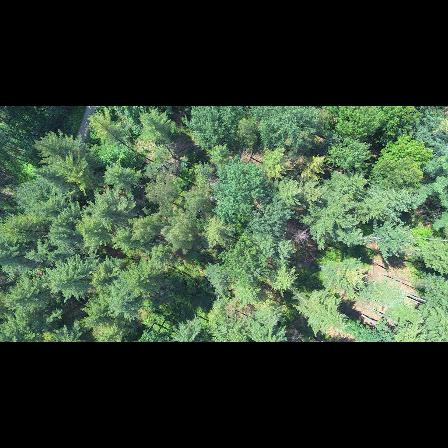Dead: (287, 226, 315, 245)
